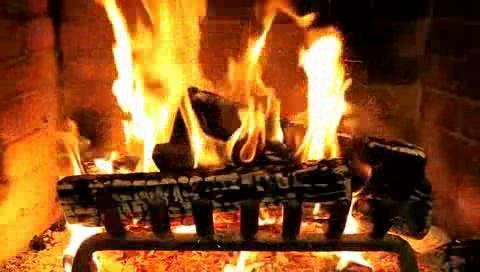fire: (94, 0, 359, 185)
